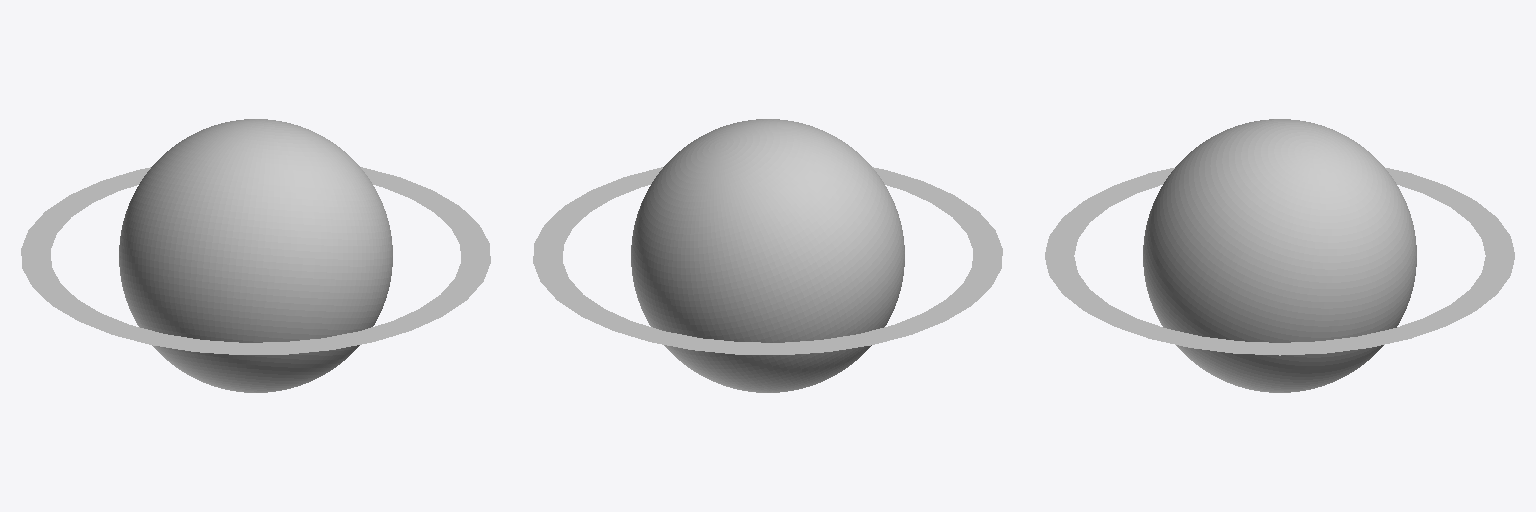
The model's file is uranus.obj.
3 renders of one model, left to right at view 1: azimuth 30°, elevation 25°; view 2: azimuth 150°, elevation 25°; view 3: azimuth 270°, elevation 25°, orthographic.
Parts seen in each view (by area): view 1: Sphere, Circle_Circle.001; view 2: Sphere, Circle_Circle.001; view 3: Sphere, Circle_Circle.001.
Boxes of the visible parts, box(x1,y1,x2,y2) form: Sphere: box(119, 119, 392, 392); Circle_Circle.001: box(21, 167, 490, 354); Sphere: box(631, 119, 904, 392); Circle_Circle.001: box(533, 167, 1002, 354); Sphere: box(1143, 119, 1416, 392); Circle_Circle.001: box(1045, 168, 1514, 355).
Size of the model in its own units: 3.44 by 2 by 3.44.